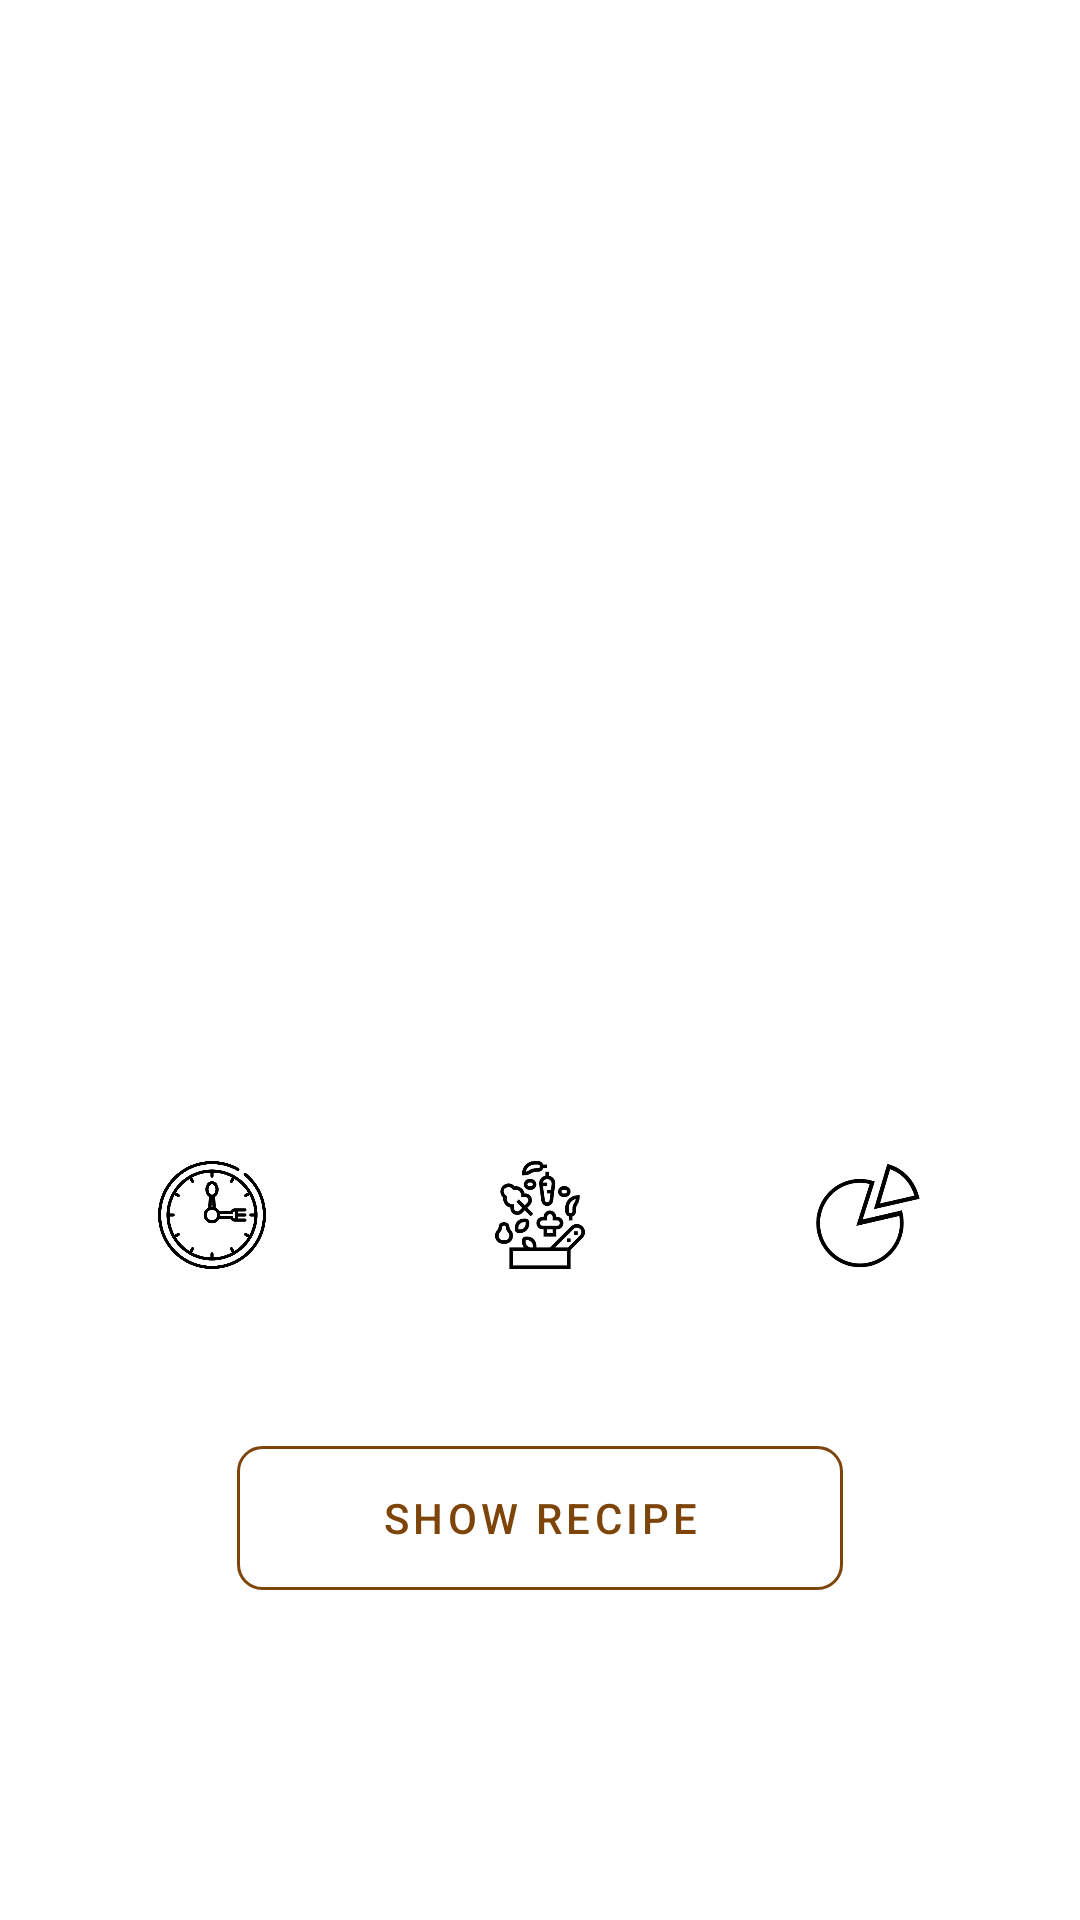

Point at icon controls on the screen. Image size 1080px×1920px, points as point (x, y).
Cooking Time: point (212, 1215)
Ingredients: point (540, 1215)
Total Servings: point (868, 1215)
